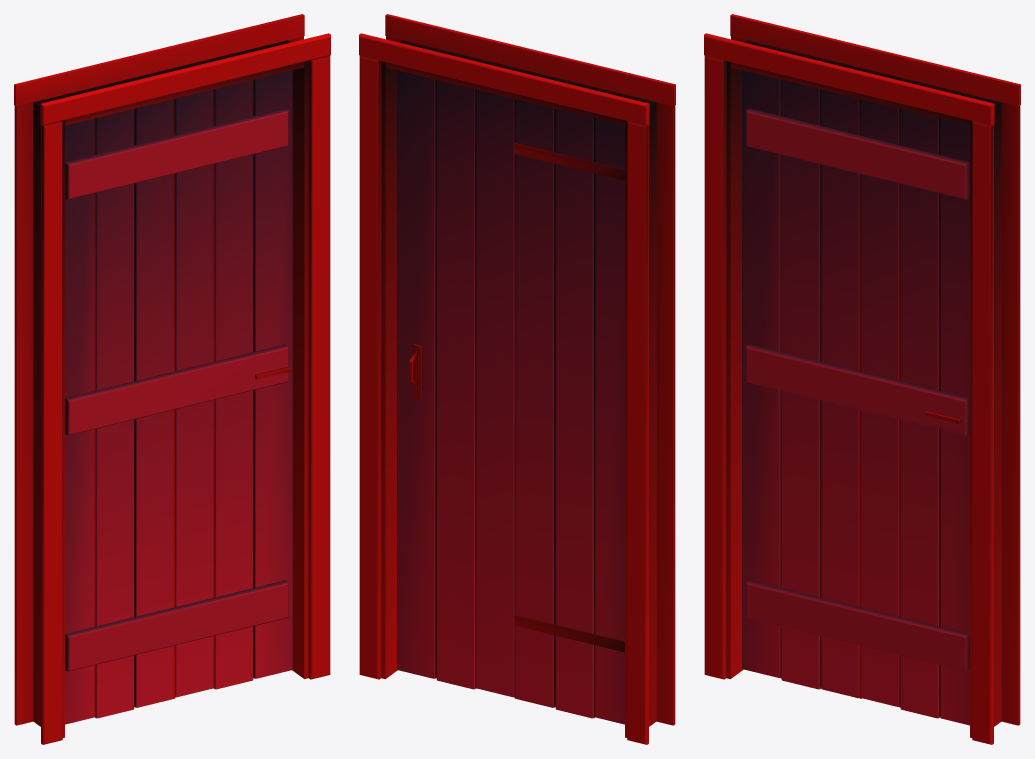
The model's file is CI_Shell_Door_Plank.glb.
3 views of the same model, side by side, from view 1: azimuth 30°, elevation 25°; view 2: azimuth 150°, elevation 25°; view 3: azimuth 330°, elevation 25° (orthographic).
Parts seen in each view (by area): view 1: CI_Shell_Door_Plank; view 2: CI_Shell_Door_Plank; view 3: CI_Shell_Door_Plank.
Part boxes in pixels (bbox=[...]): CI_Shell_Door_Plank: bbox=[14, 14, 330, 744]; CI_Shell_Door_Plank: bbox=[359, 14, 675, 744]; CI_Shell_Door_Plank: bbox=[704, 14, 1020, 744].
Bounding box in the file's own units: 1.02 × 2.17 × 0.186.
